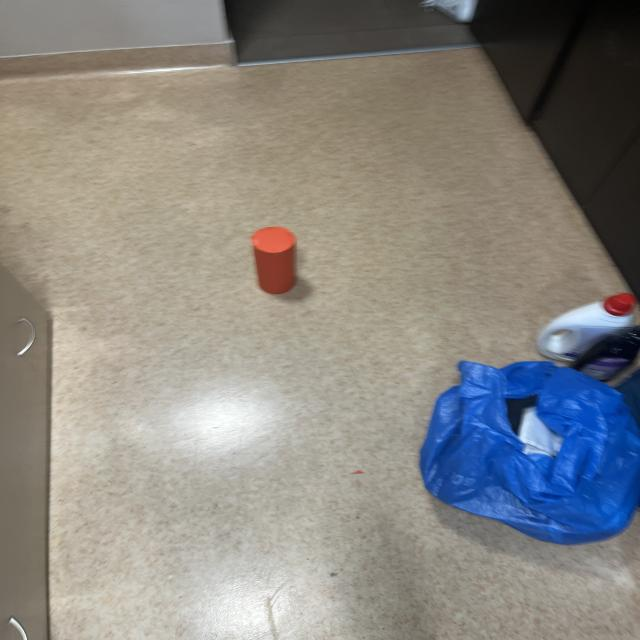przeszkoda: (251, 227, 296, 294)
